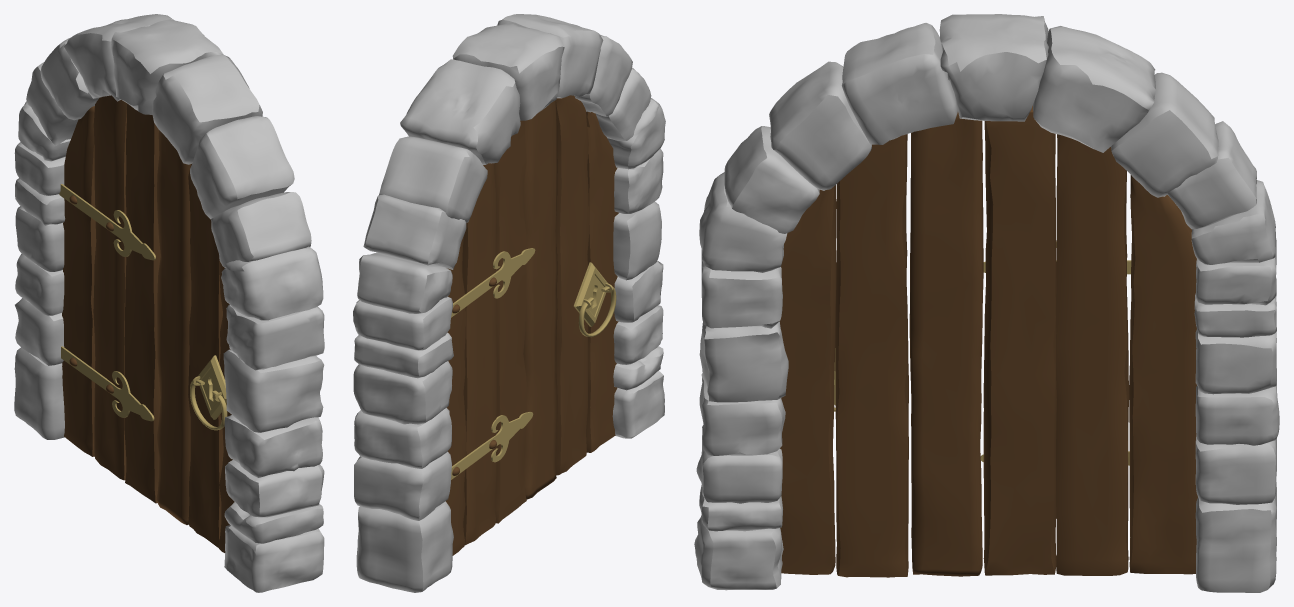
The model's file is puerta3.fbx.
3 views of the same model, side by side, from view 1: azimuth 30°, elevation 25°; view 2: azimuth 150°, elevation 25°; view 3: azimuth 270°, elevation 25° (orthographic). The views are drawn at different scales.
Parts seen in each view (by area): view 1: Door_low; view 2: Door_low; view 3: Door_low.
Boxes of the visible parts, left/top/right/bottom form: Door_low: left=14, top=14, right=324, bottom=592; Door_low: left=353, top=14, right=665, bottom=592; Door_low: left=694, top=14, right=1279, bottom=592.
Size of the model in its own units: 113 by 615 by 600.
